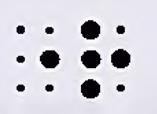dot_5: (16, 25, 60, 92)
roon: (81, 19, 131, 97)
